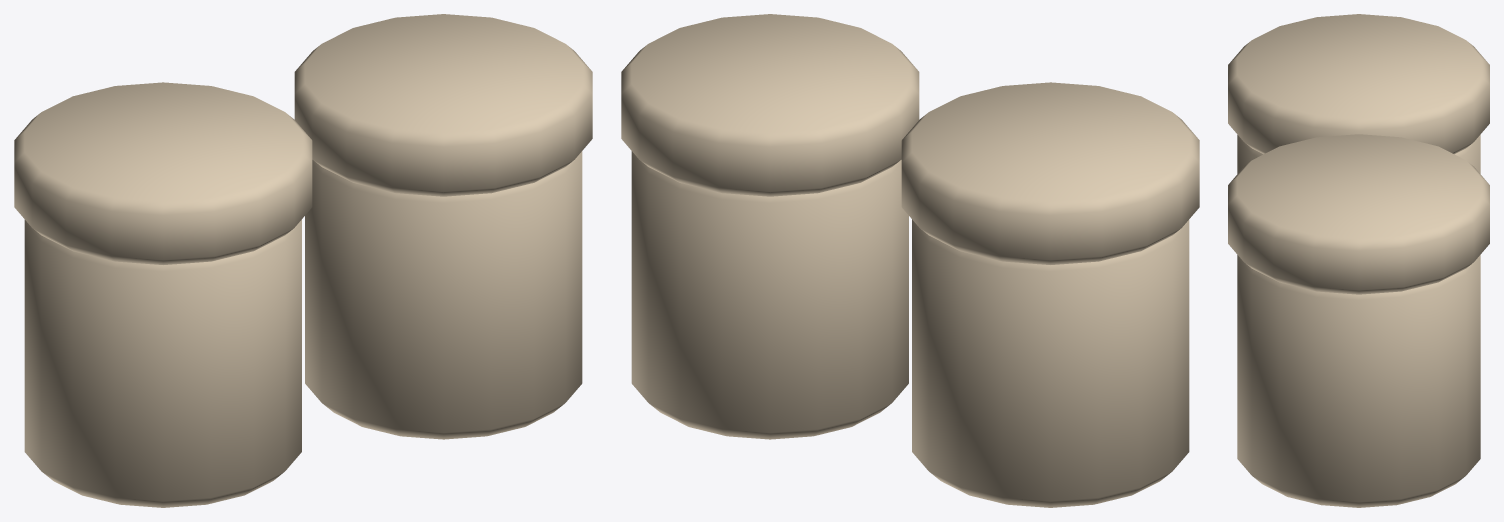
File: i_jars_6.glb
3 renders of one model, left to right at view 1: azimuth 30°, elevation 25°; view 2: azimuth 150°, elevation 25°; view 3: azimuth 270°, elevation 25°, orthographic. The views are drawn at different scales.
Visible parts, largest first — view 1: o, o.002, o.001, o.003; view 2: o, o.002, o.001, o.003; view 3: o.002, o.003, o.001, o.
Part boxes in pixels (box(x1,y1,x2,y2)): o: box(24, 219, 301, 507); o.002: box(305, 151, 582, 439); o.001: box(14, 82, 312, 264); o.003: box(294, 14, 592, 196); o: box(912, 219, 1189, 507); o.002: box(631, 151, 908, 439); o.001: box(901, 82, 1199, 264); o.003: box(621, 14, 919, 196); o.002: box(1237, 255, 1480, 507); o.003: box(1228, 134, 1489, 294); o.001: box(1228, 14, 1489, 154); o: box(1237, 135, 1480, 173).
Size of the model in its own units: 0.178 by 0.098 by 0.0847.
